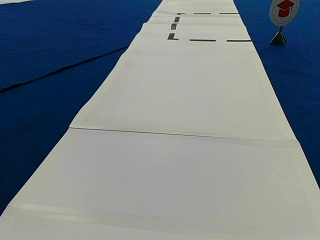school: (268, 1, 299, 25)
